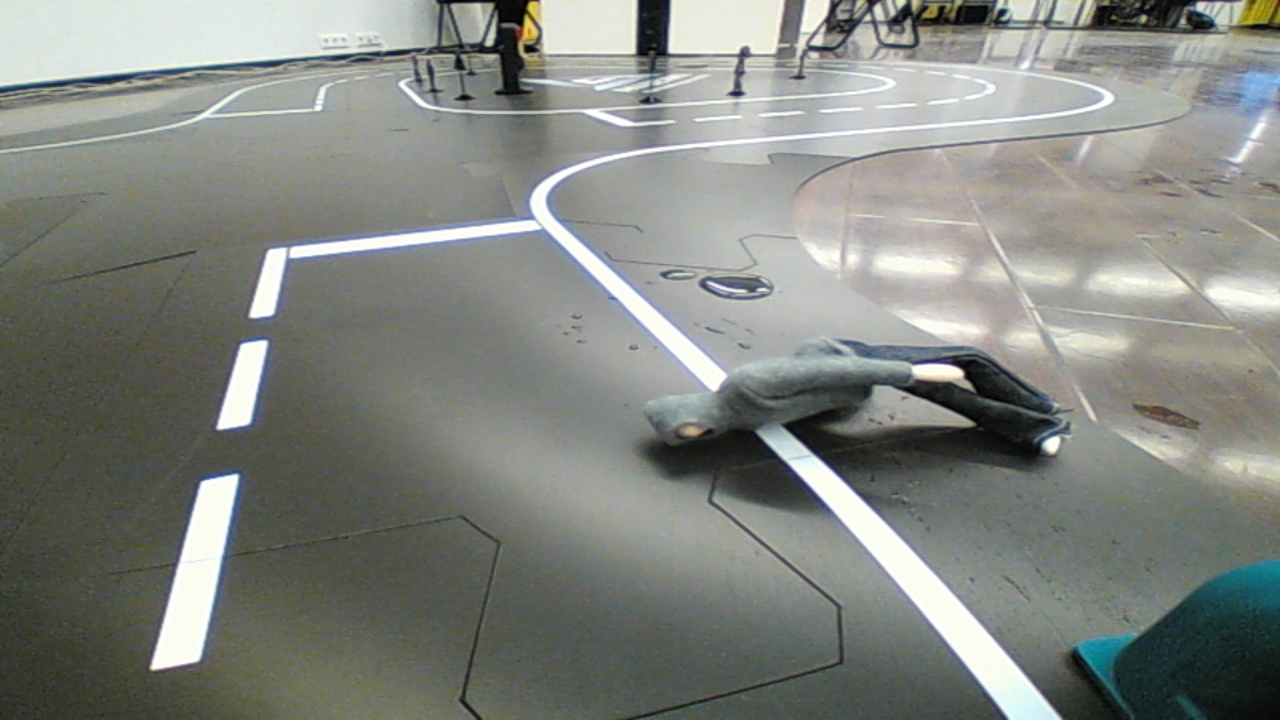Road works: (635, 324, 1083, 475)
